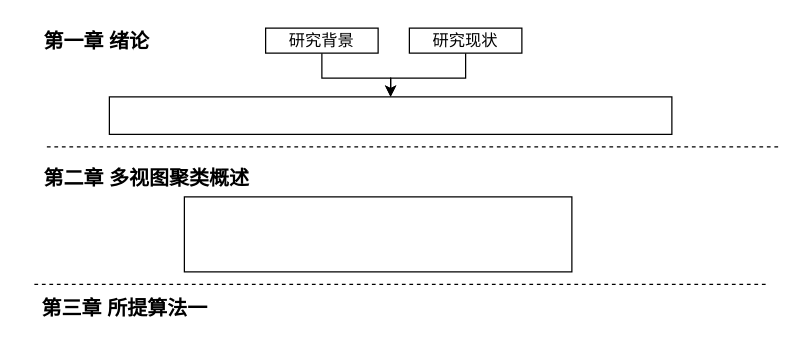
This 801x348 diagram has some shape labels left out. Each missing label, with the centre of its shape:
"目前存在的两个问题：（1）信息表示的不足；（2）信息表示与复杂度的权衡；" goes at pixel 390 115.
"（1）概述不同类型的多视图聚类方法； （2）详细介绍与本文最相关的三类方法以及几篇最相关的工作，为后续所提算法做理论铺垫；" goes at pixel 377 234.
